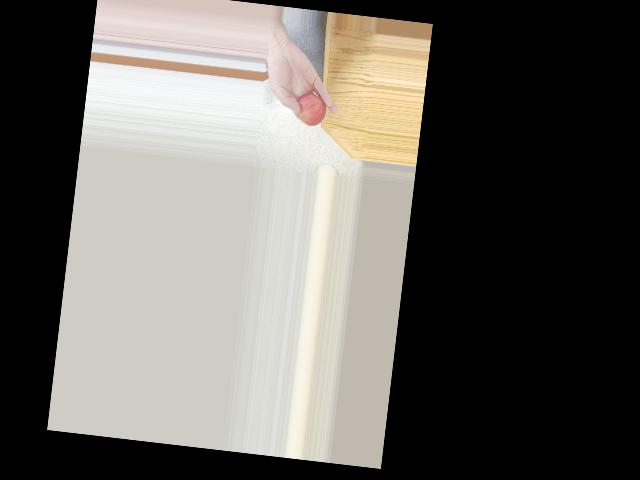apple: (289, 87, 327, 127)
